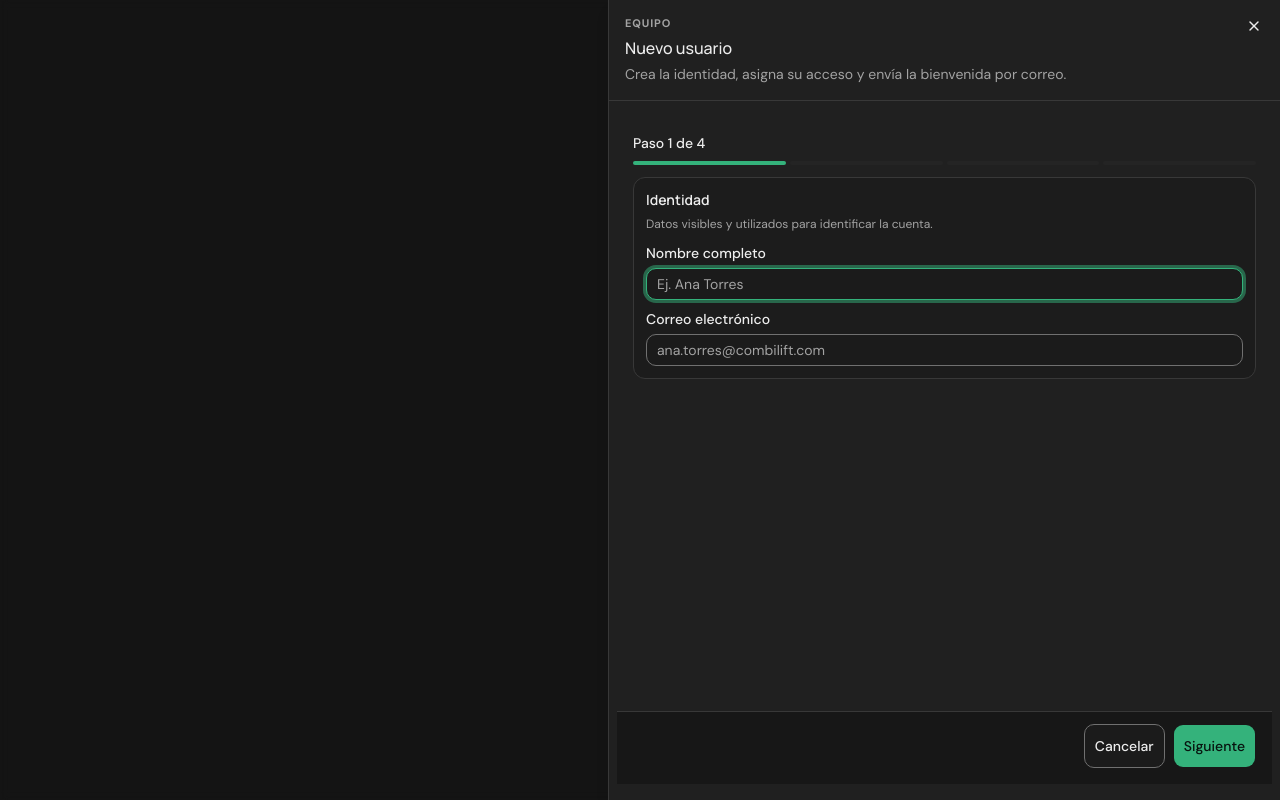
Test: ManagedUserSheet › guides a new user through identity, authentication, access and confirmation
Check: the dialog "Nuevo usuario" is shown, box [608,0,1279,799]
Check: the field with placeholder "ana.torres@combilift.com" is shown, box [646,334,1243,366]
Type "Ana Torres" into the field labelled "Nombre completo" at (944, 284), box [646,268,1243,300]
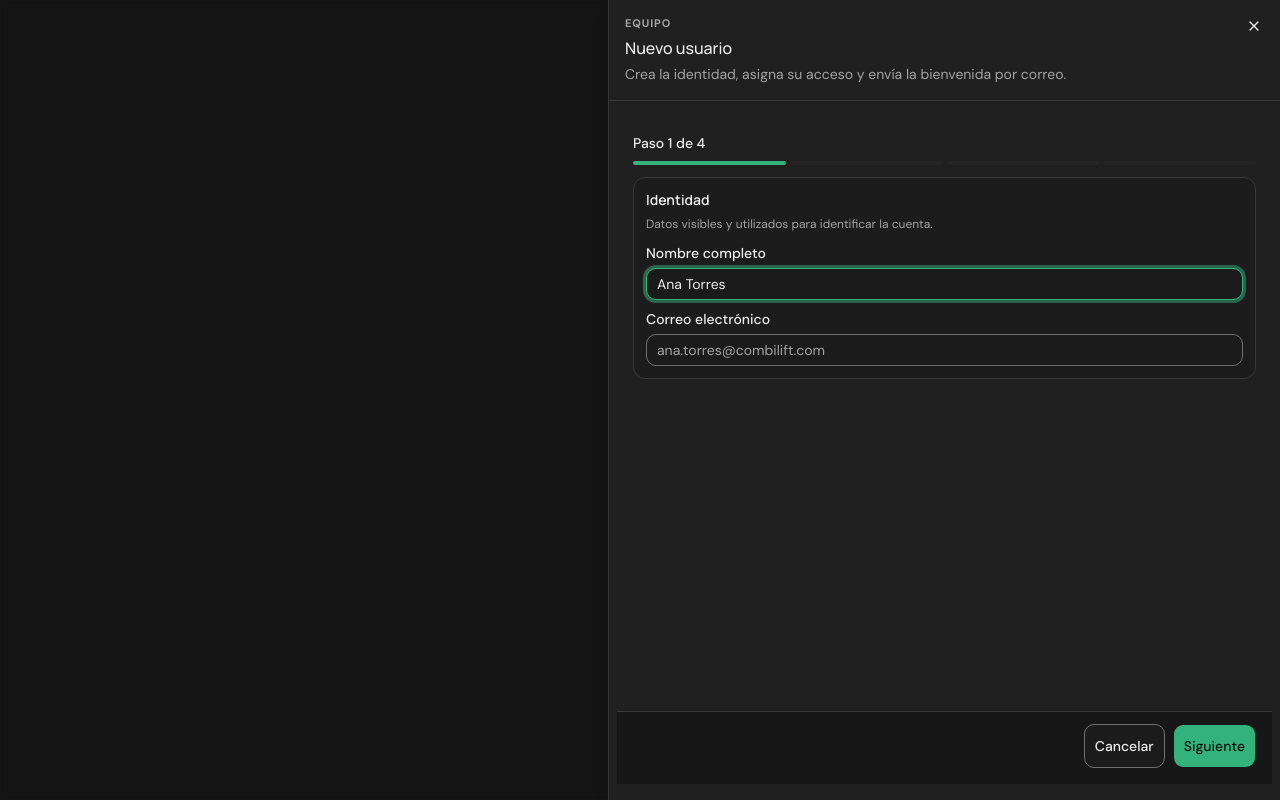
Type "ana@example.com" into the field labelled "Correo electrónico" at (944, 350), box [646,334,1243,366]
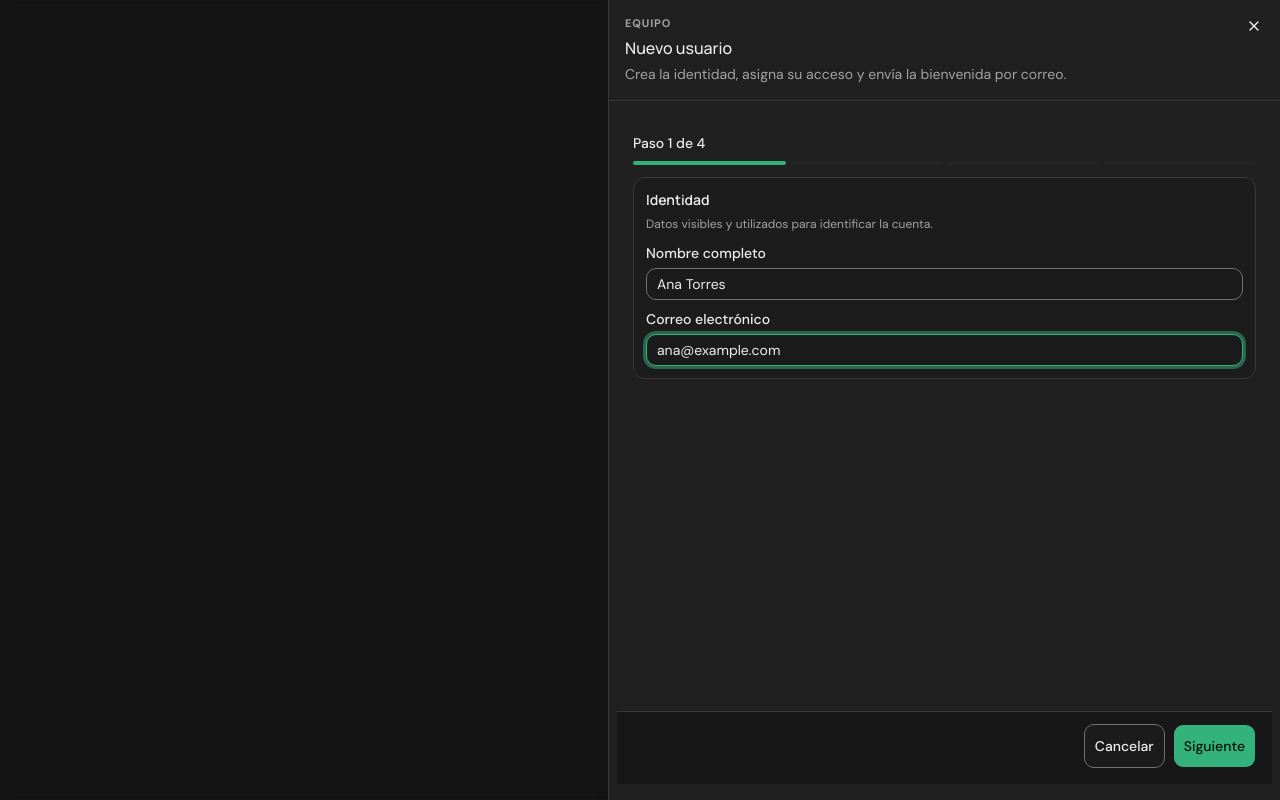
Click the button "Siguiente" at (1214, 746), box [1173,724,1256,768]
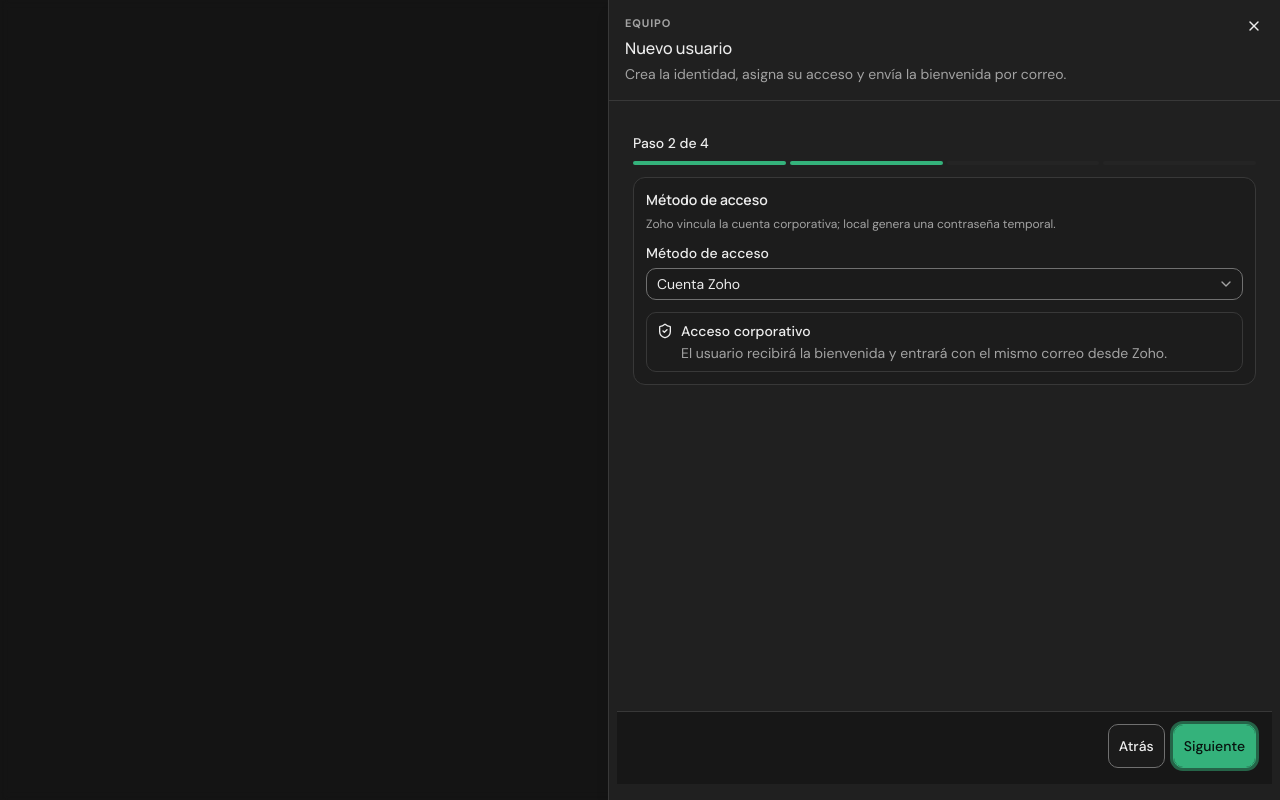
Check: the dropdown named "Método de acceso" is shown, box [646,268,1243,300]
Click the button "Siguiente" at (1214, 746), box [1173,724,1256,768]
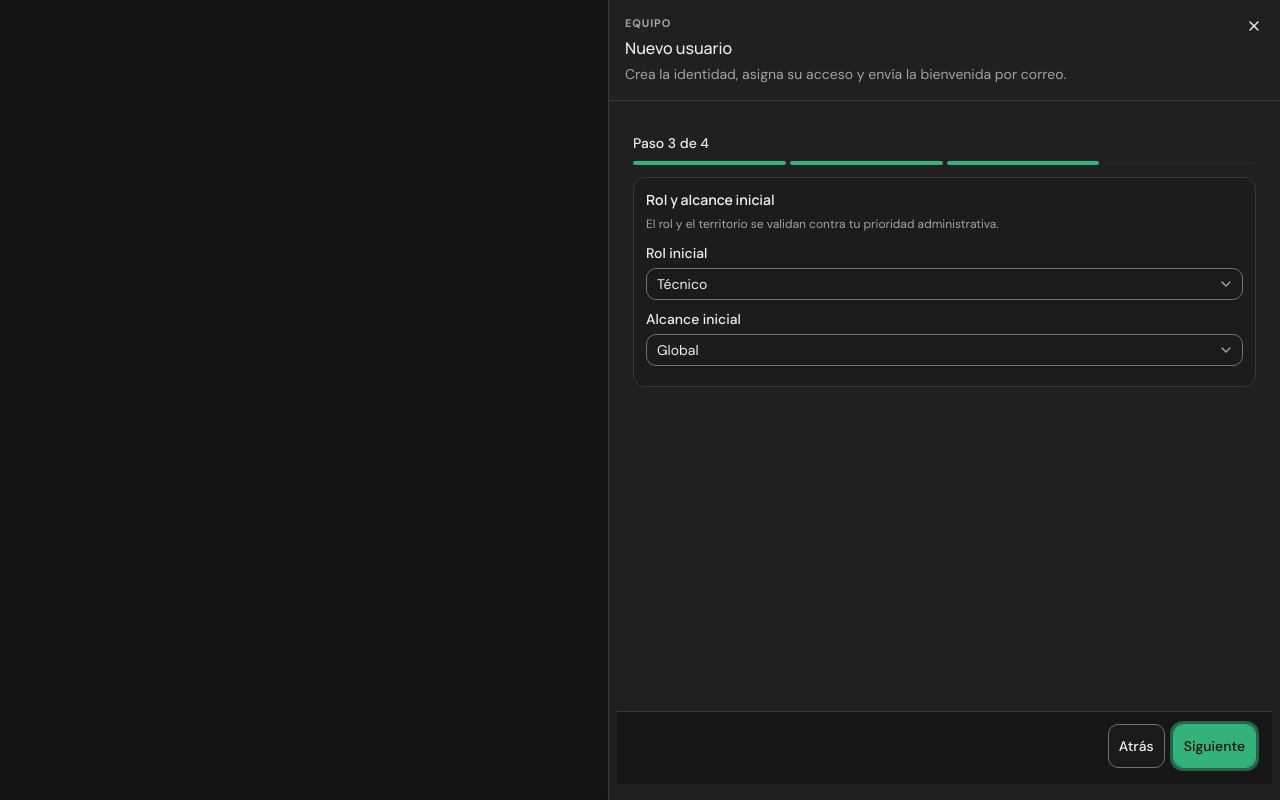
Check: the dropdown named "Rol inicial" is shown, box [646,268,1243,300]
Check: the dropdown named "Alcance inicial" is shown, box [646,334,1243,366]
Click the button "Siguiente" at (1214, 746), box [1173,724,1256,768]
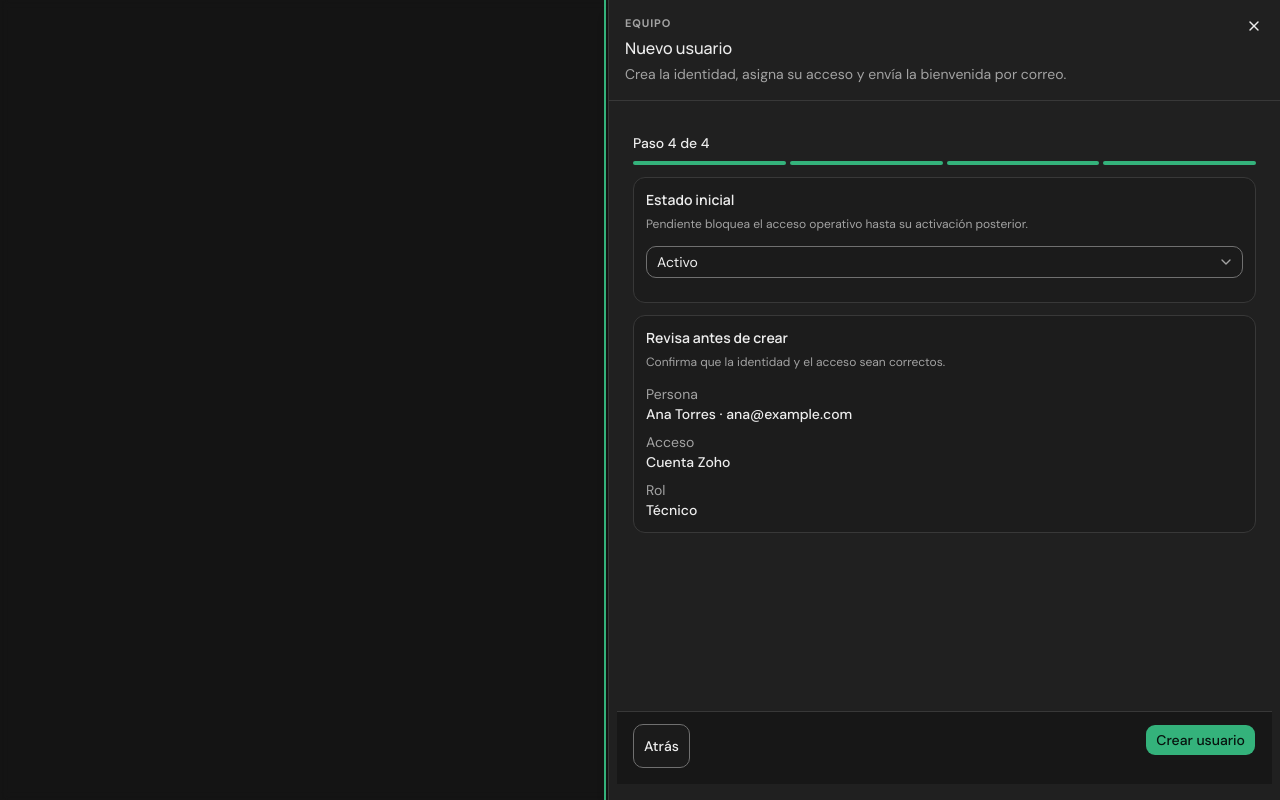
Check: the dropdown named "Estado inicial" is shown, box [646,246,1243,278]
Check: the heading "Revisa antes de crear" is shown, box [646,328,788,347]
